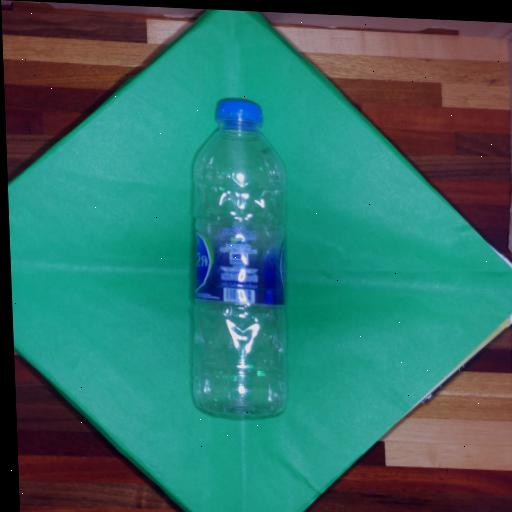bottle: (176, 85, 300, 432)
